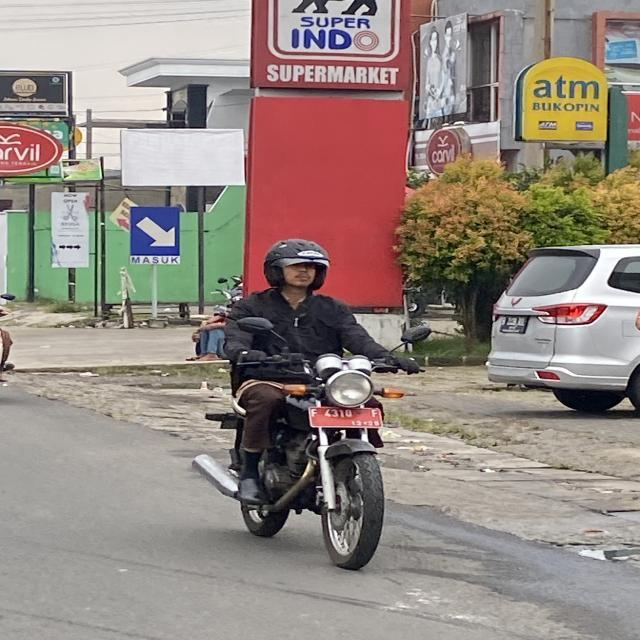Helmet: (264, 239, 329, 289)
Number Plate: (309, 407, 383, 429), (500, 316, 528, 333)
Rearview Mirror: (237, 317, 273, 334), (401, 325, 432, 344), (0, 293, 15, 300), (217, 277, 227, 283)
